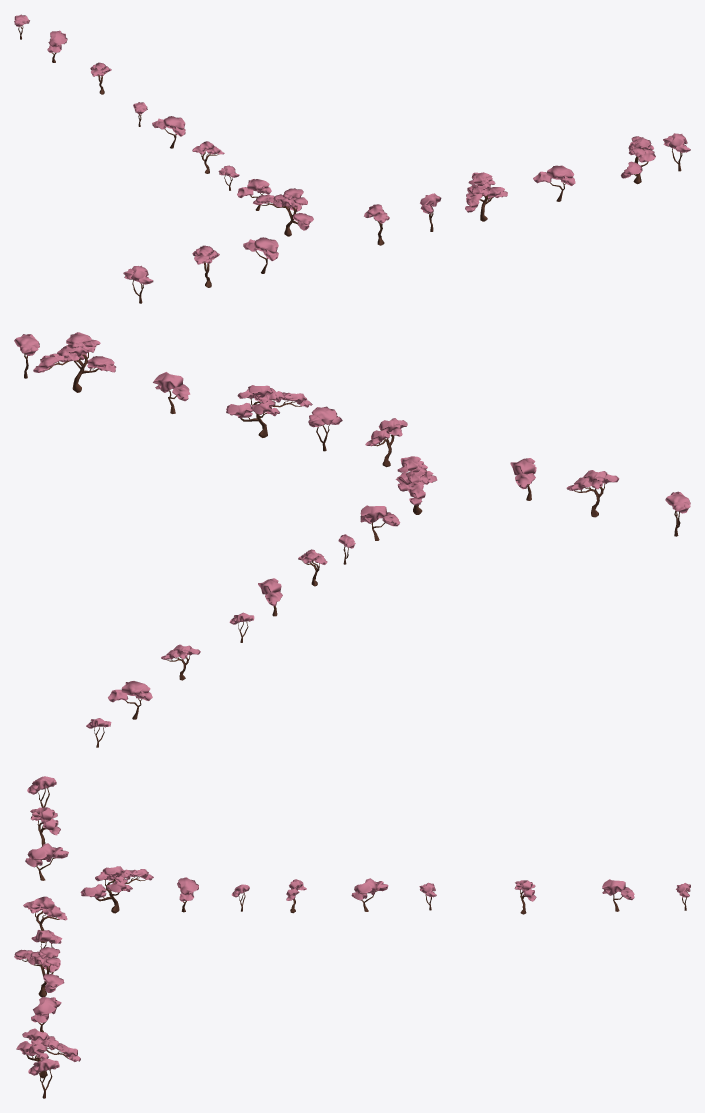
File: Block_Trees.glb
3 views of the same model, one above another, from view 1: azimuth 30°, elevation 25°; view 2: azimuth 150°, elevation 25°; view 3: azimuth 270°, elevation 25° (orthographic). The views are drawn at different scales.
Parts seen in each view (by area): view 1: SM_Env_Tree_04, SM_Env_Tree_08, SM_Env_Tree_14, SM_Env_Tree_07, SM_Env_Tree_13, SM_Env_Tree_06, SM_Env_Tree_11, SM_Env_Tree_01, SM_Env_Tree_12; view 2: SM_Env_Tree_14, SM_Env_Tree_08, SM_Env_Tree_04, SM_Env_Tree_11, SM_Env_Tree_09, SM_Env_Tree_07, SM_Env_Tree_17, SM_Env_Tree_01, SM_Env_Tree_13, SM_Env_Tree_10; view 3: SM_Env_Tree_04, SM_Env_Tree_14, SM_Env_Tree_08, SM_Env_Tree_13, SM_Env_Tree_09, SM_Env_Tree_11, SM_Env_Tree_07, SM_Env_Tree_06.
Part boxes in pixels (x1,y1,x2,y2): SM_Env_Tree_04: (253,188,313,236); SM_Env_Tree_08: (465,172,507,221); SM_Env_Tree_14: (621,136,655,184); SM_Env_Tree_07: (533,165,575,201); SM_Env_Tree_13: (243,237,278,273); SM_Env_Tree_06: (152,116,185,148); SM_Env_Tree_11: (192,245,219,287); SM_Env_Tree_01: (237,179,271,210); SM_Env_Tree_12: (123,265,153,303); SM_Env_Tree_14: (33,332,116,392); SM_Env_Tree_08: (226,385,312,437); SM_Env_Tree_04: (395,456,437,514); SM_Env_Tree_11: (566,470,619,517); SM_Env_Tree_09: (365,418,407,467); SM_Env_Tree_07: (153,372,190,413); SM_Env_Tree_17: (108,681,152,719); SM_Env_Tree_01: (360,505,400,540); SM_Env_Tree_13: (510,458,536,500); SM_Env_Tree_10: (308,406,342,451); SM_Env_Tree_04: (80,866,153,913); SM_Env_Tree_14: (16,1028,80,1078); SM_Env_Tree_08: (14,947,64,997); SM_Env_Tree_13: (25,843,68,880); SM_Env_Tree_09: (23,896,67,942); SM_Env_Tree_11: (30,807,60,847); SM_Env_Tree_07: (31,997,61,1032); SM_Env_Tree_06: (351,878,388,911).
Bounding box in the file's own units: 287 × 22.19 × 282.
4 materials, 4 textured.
